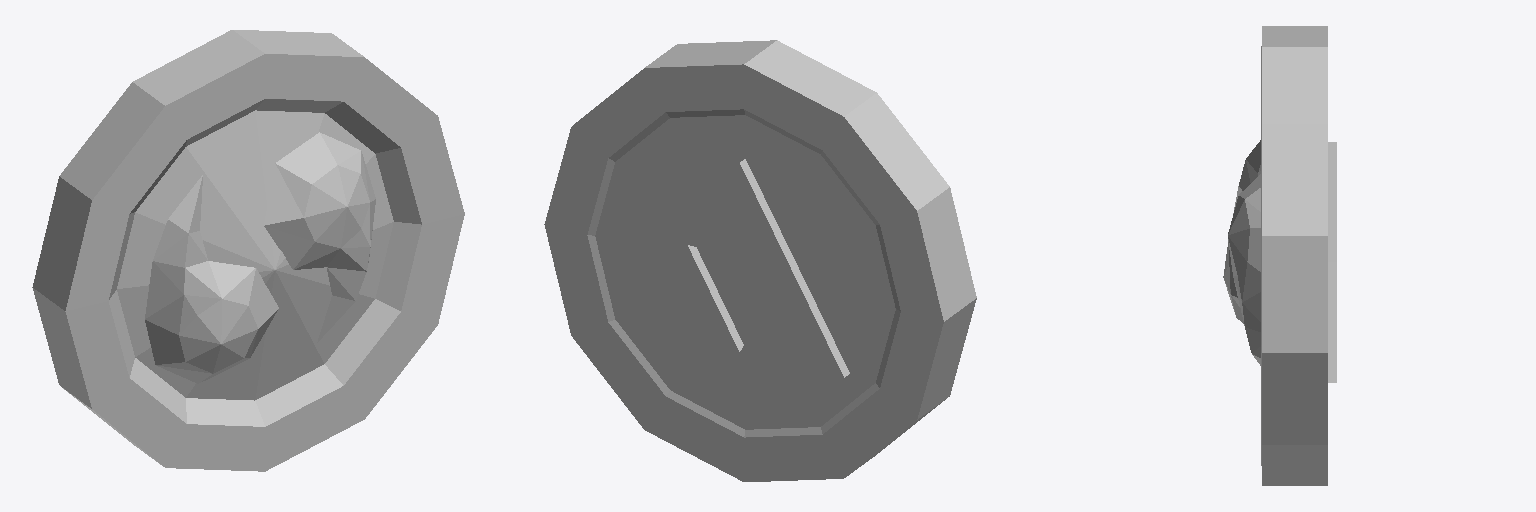
The model's file is Spirit Medallion.obj.
3 views of the same model, side by side, from view 1: azimuth 30°, elevation 25°; view 2: azimuth 150°, elevation 25°; view 3: azimuth 270°, elevation 25° (orthographic).
Parts seen in each view (by area): view 1: spiritmedal_geom-03C4ABCC; view 2: spiritmedal_geom-03C4ABCC; view 3: spiritmedal_geom-03C4ABCC.
Part boxes in pixels (bbox=[...]): spiritmedal_geom-03C4ABCC: bbox=[32, 30, 464, 471]; spiritmedal_geom-03C4ABCC: bbox=[544, 40, 976, 481]; spiritmedal_geom-03C4ABCC: bbox=[1223, 26, 1336, 485].
Size of the model in its own units: 0.779 by 0.779 by 0.1916.